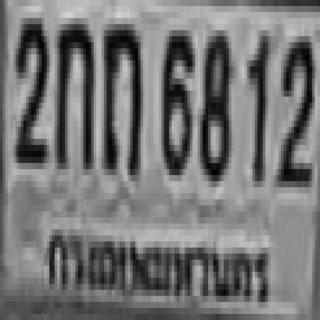A01: (52, 18, 91, 163)
A22: (102, 21, 140, 172)
N01: (244, 27, 268, 178)
N02: (276, 30, 312, 181), (13, 15, 47, 160)
N06: (159, 24, 192, 169)
N08: (198, 24, 229, 175)
P04: (43, 214, 276, 314)
